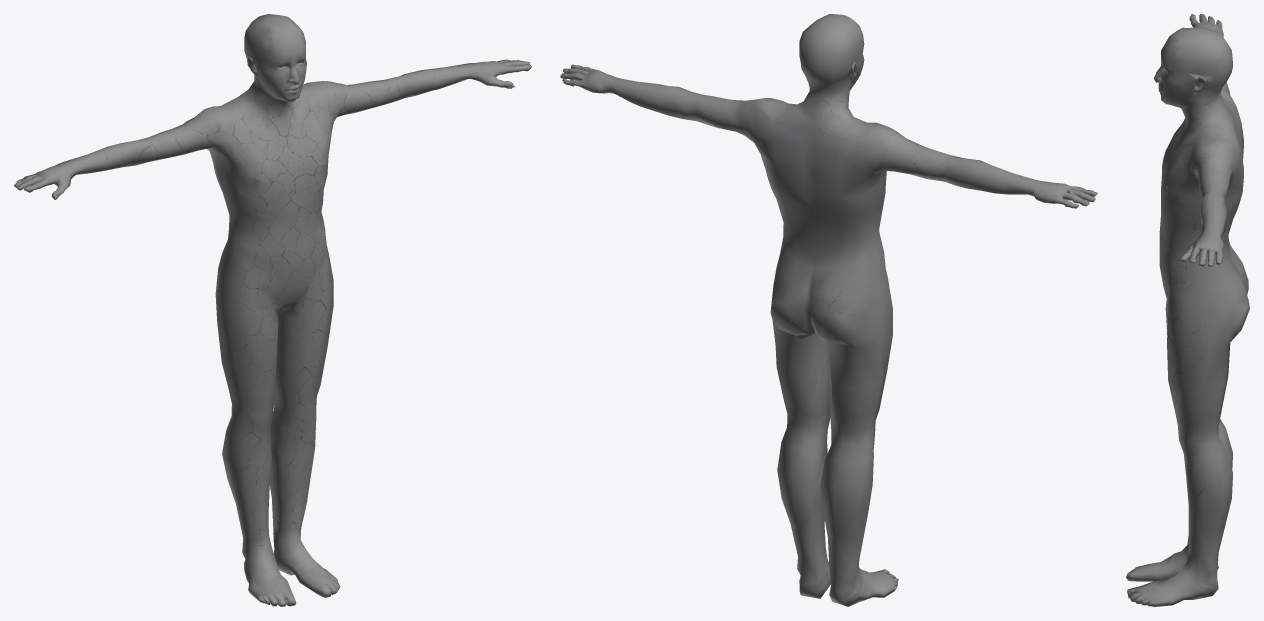
File: selected.glb
The picture shows the model from 3 angles, left to right: view 1: azimuth 30°, elevation 25°; view 2: azimuth 150°, elevation 25°; view 3: azimuth 270°, elevation 25°; orthographic projection. The views are drawn at different scales.
Visible parts, largest first — view 1: tripo_node_e1df8798-a22d-4b10-bb99-c35435aa038c; view 2: tripo_node_e1df8798-a22d-4b10-bb99-c35435aa038c; view 3: tripo_node_e1df8798-a22d-4b10-bb99-c35435aa038c.
Part boxes in pixels (x1,y1,x2,y2): tripo_node_e1df8798-a22d-4b10-bb99-c35435aa038c: (14,14,531,606); tripo_node_e1df8798-a22d-4b10-bb99-c35435aa038c: (560,14,1097,606); tripo_node_e1df8798-a22d-4b10-bb99-c35435aa038c: (1126,14,1249,606).
Size of the model in its own units: 0.959 by 0.998 by 0.2012.
1 material, 1 textured.
